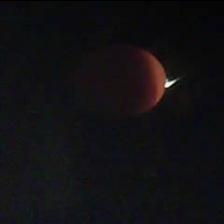fertile: (66, 40, 168, 125)
